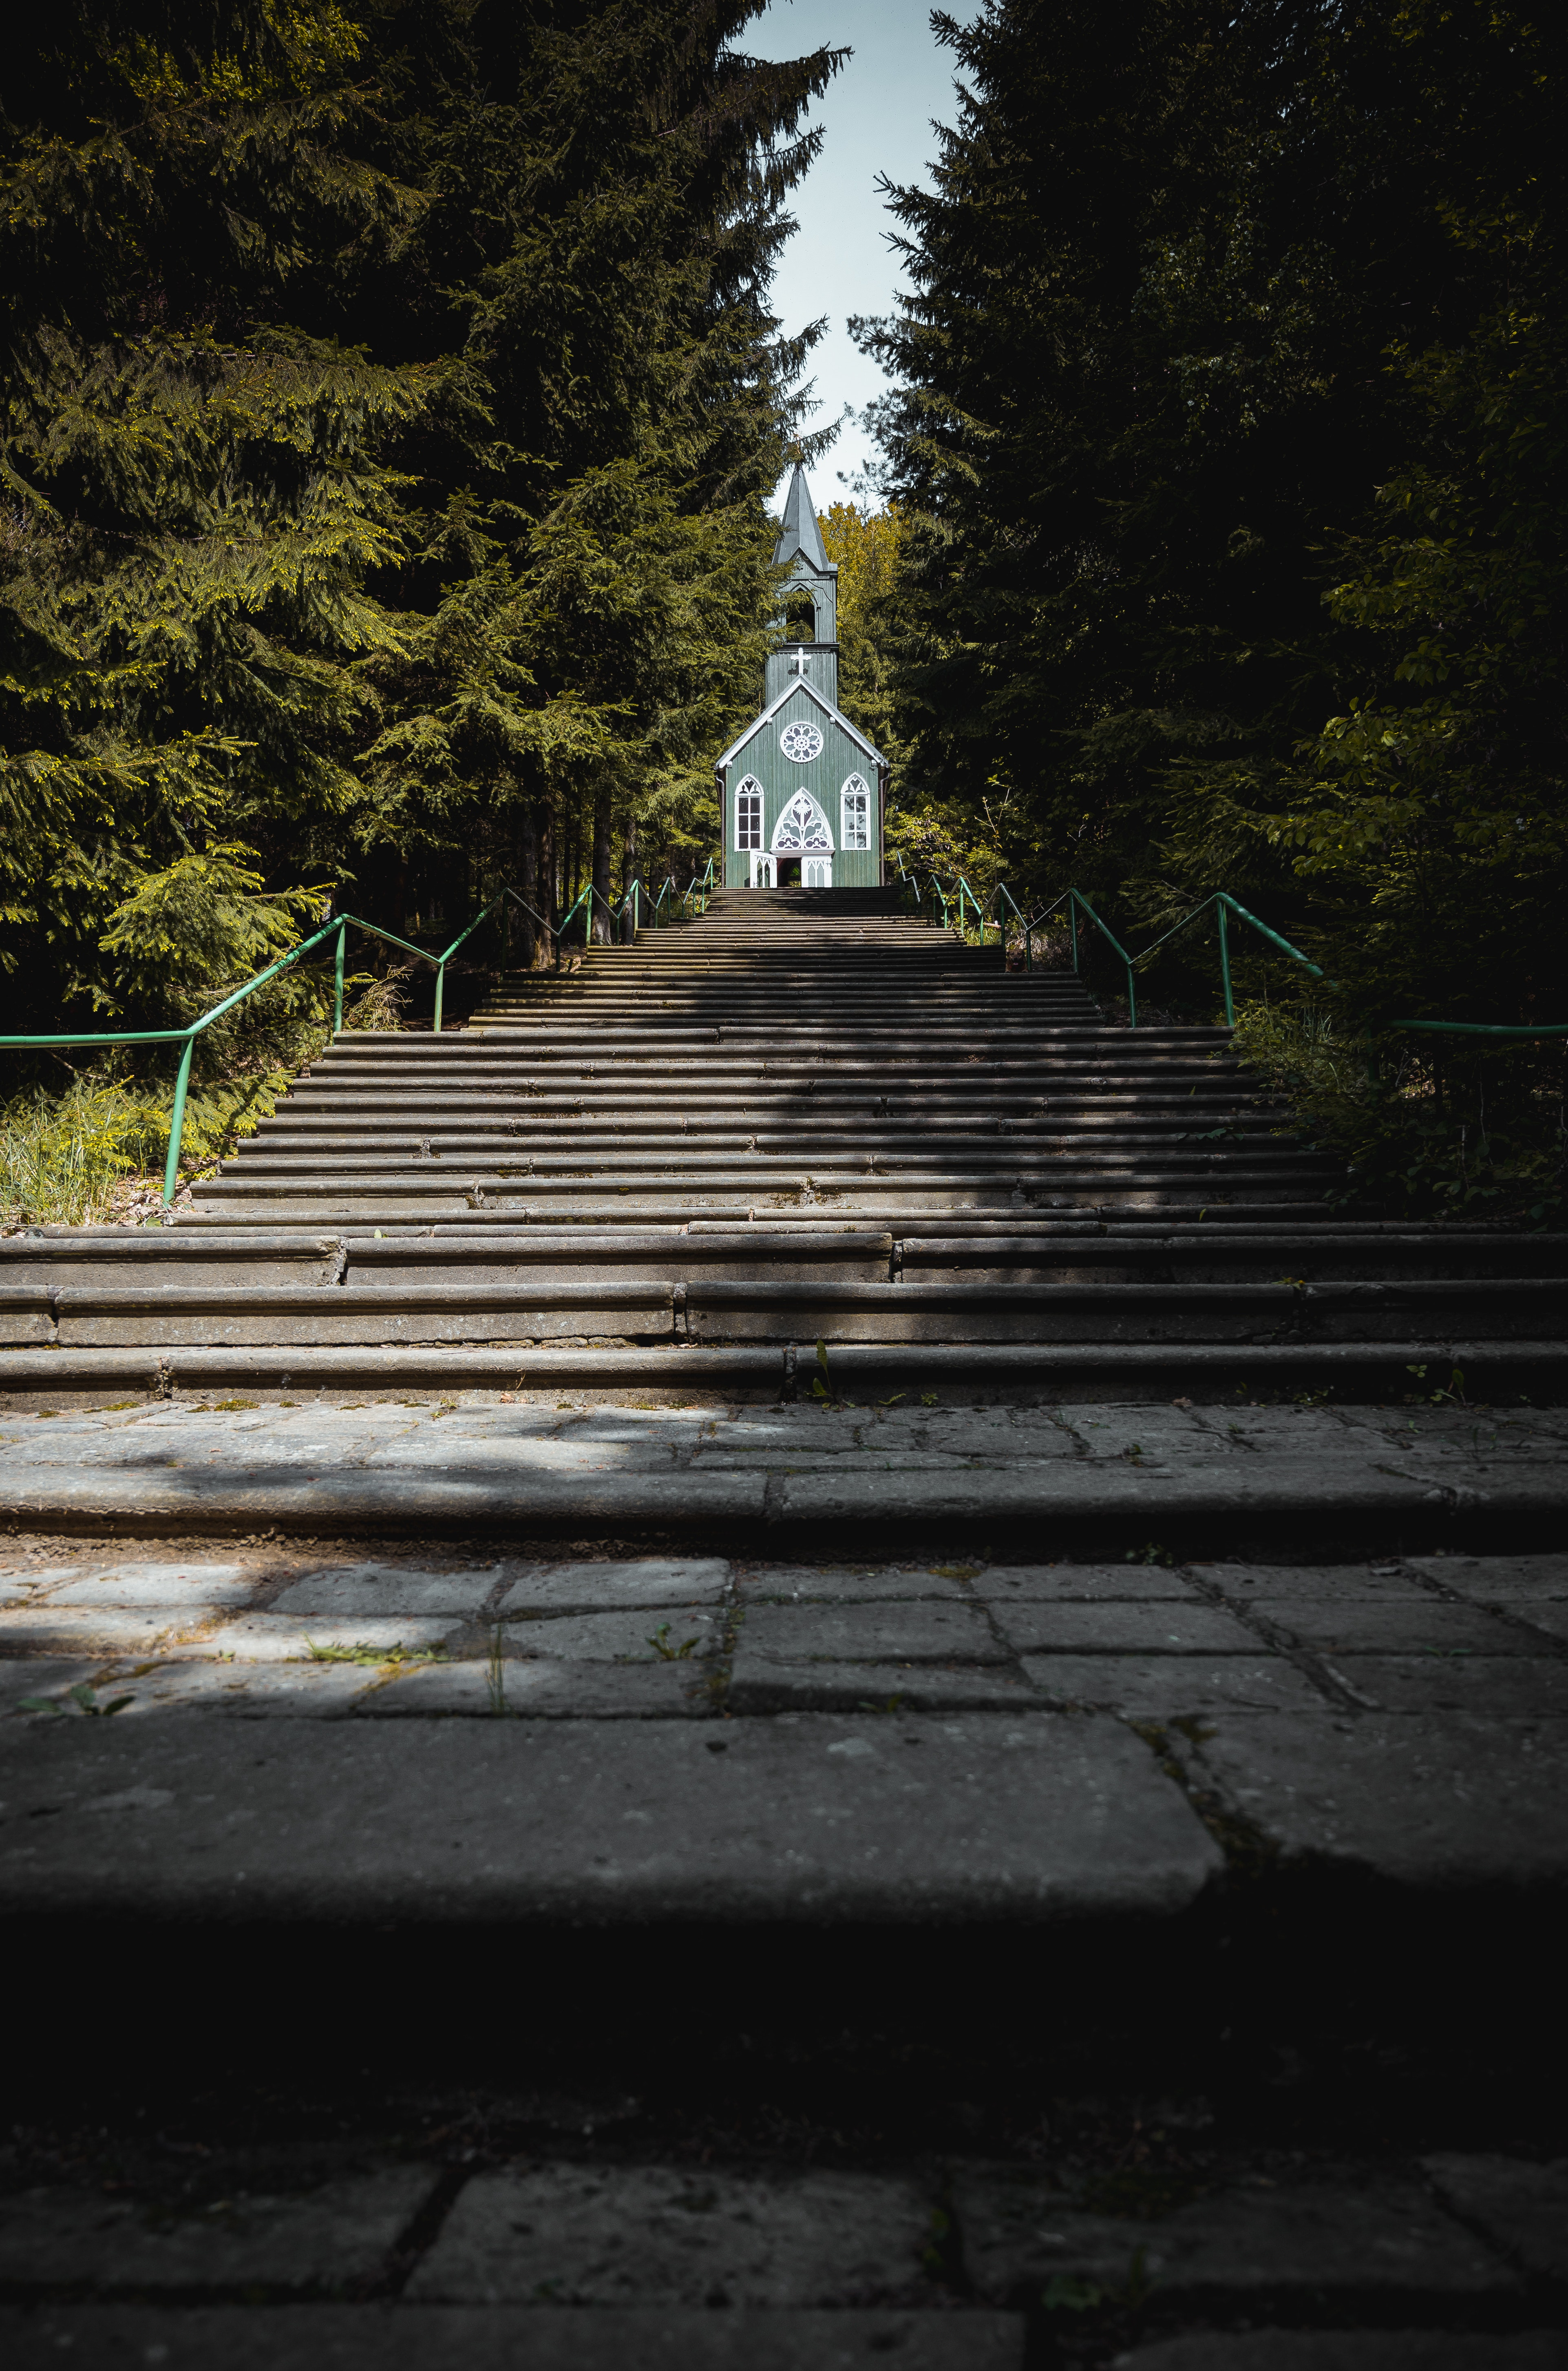upstairs: (87, 1232, 1552, 2359)
